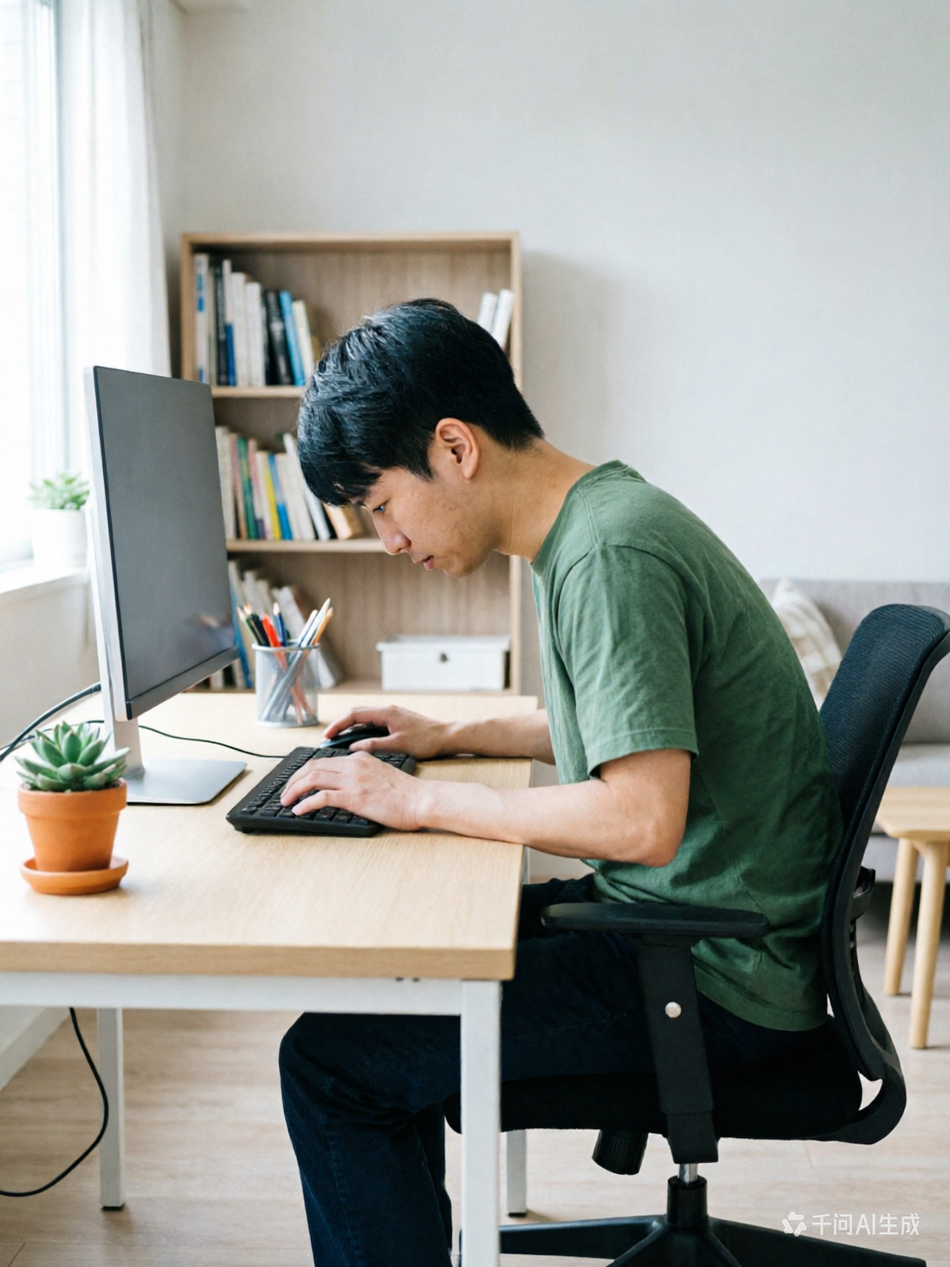sitting_bad: (259, 307, 857, 1251)
